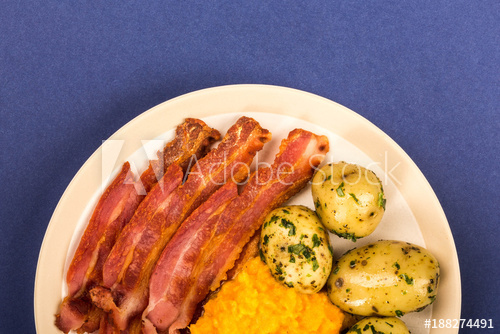boiled potatoes: (329, 240, 447, 321), (257, 207, 339, 298), (311, 156, 392, 244)
